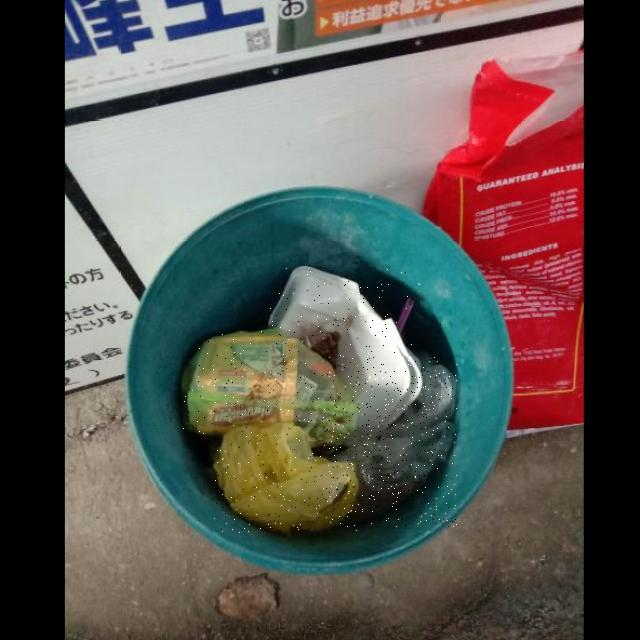plastic: (327, 356, 457, 527), (182, 328, 358, 449), (213, 422, 359, 534)
styrofoam: (269, 266, 422, 447)
